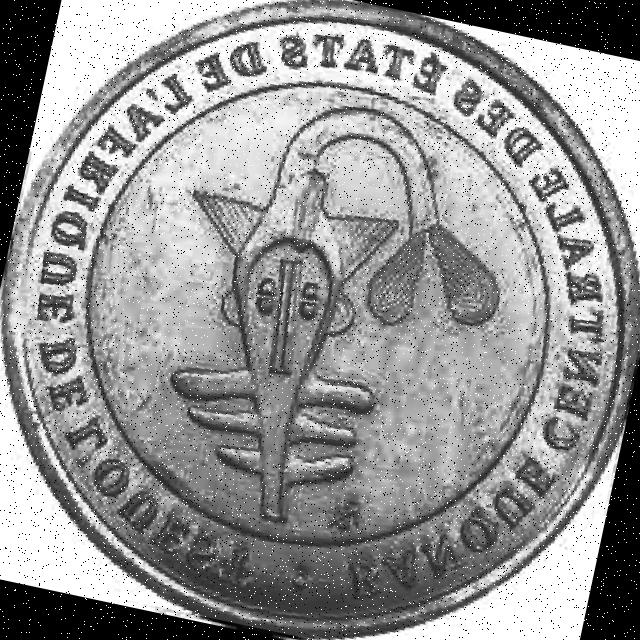nient fukk: (4, 4, 639, 634)
